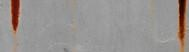Corrosion: (176, 1, 186, 52), (10, 1, 21, 33)
